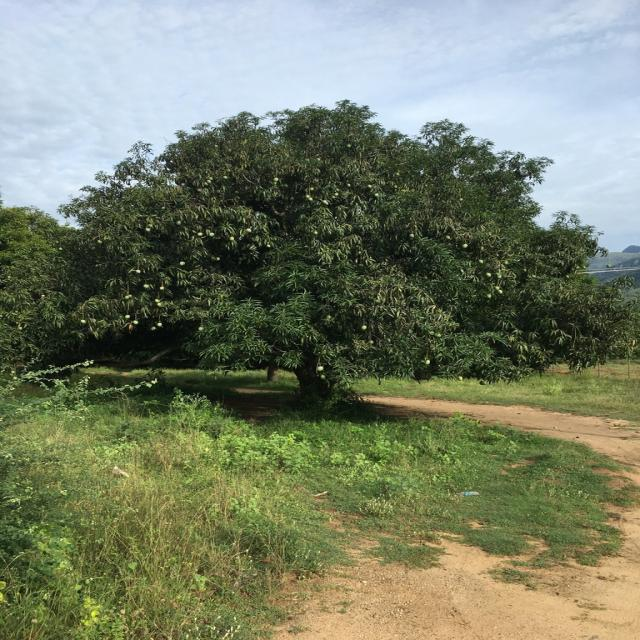Mango-Tree: (51, 107, 635, 400)
